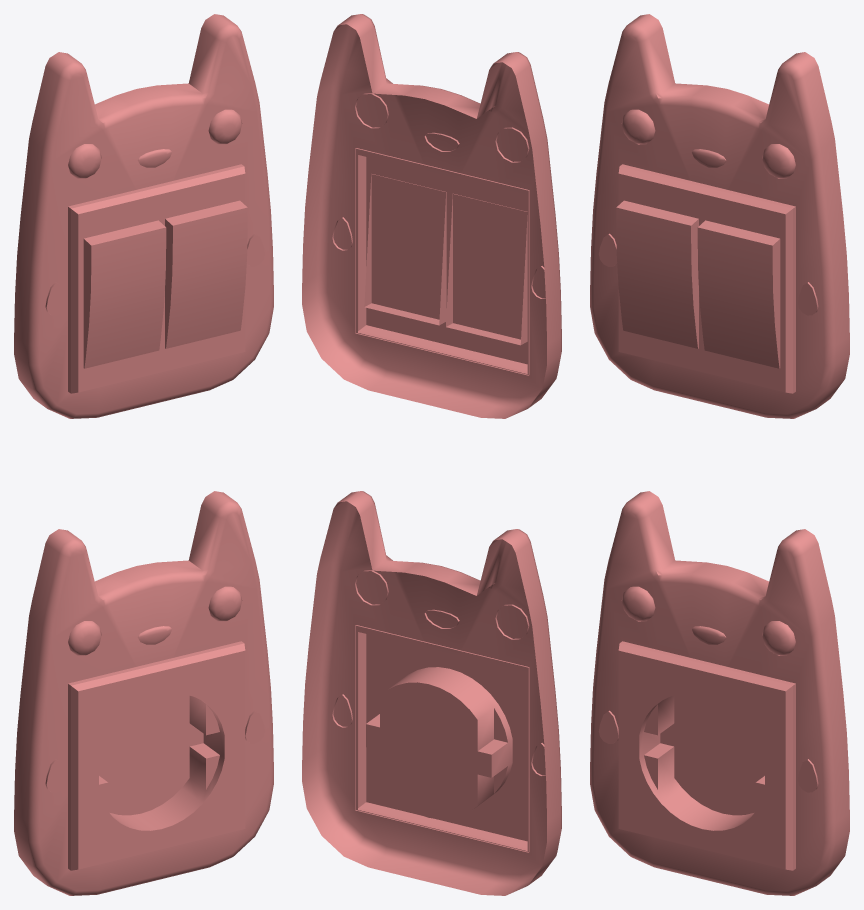
The model's file is Socket_1.fbx.
3 views of the same model, side by side, from view 1: azimuth 30°, elevation 25°; view 2: azimuth 150°, elevation 25°; view 3: azimuth 330°, elevation 25° (orthographic).
Parts seen in each view (by area): view 1: Outlet_1, Switch_1; view 2: Outlet_1, Switch_1; view 3: Outlet_1, Switch_1.
Boxes of the visible parts, x1,y1,x2,y2 form: Outlet_1: [14, 491, 273, 895]; Switch_1: [14, 14, 273, 418]; Outlet_1: [302, 491, 561, 895]; Switch_1: [302, 14, 561, 418]; Outlet_1: [590, 491, 849, 895]; Switch_1: [590, 14, 849, 418].
Bounding box in the file's own units: 8.06 × 26.35 × 1.88.
